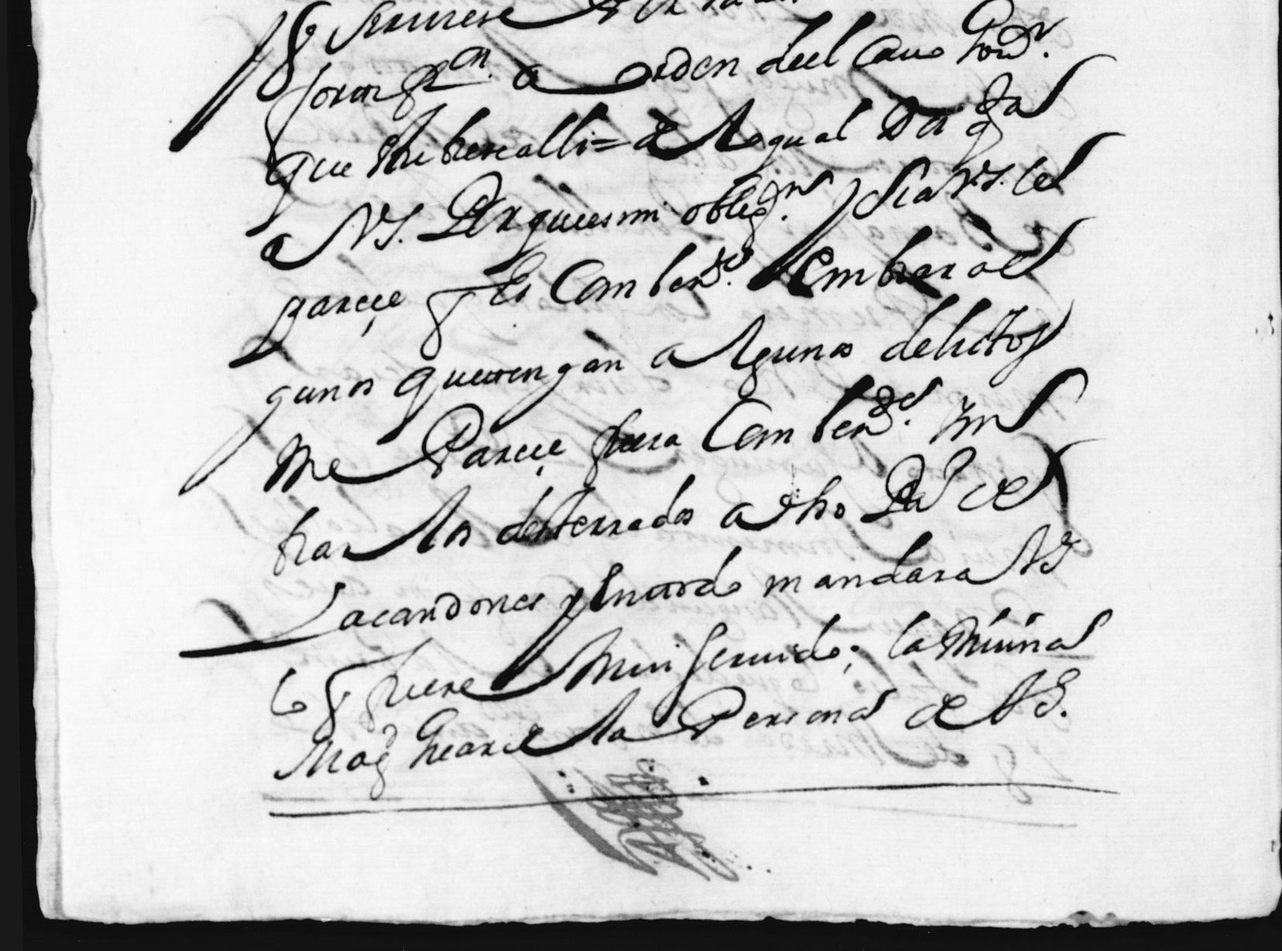lacandon: (178, 582, 545, 657)
